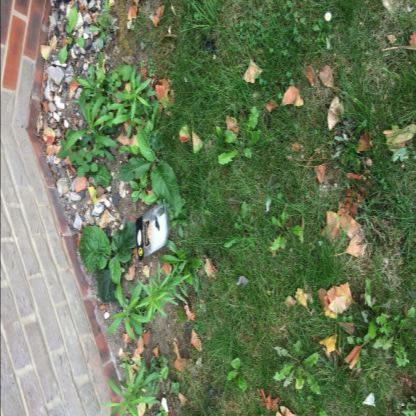Plastic bag - wrapper: (135, 199, 165, 261), (236, 276, 248, 286)
Plastic container: (135, 199, 170, 261)
Unlabeled litter: (361, 393, 375, 406)
